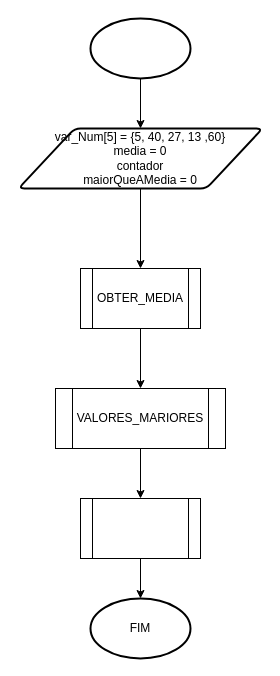
Image size: 280x676. Some labels were removed from this diagram. Each missing label, with the box of its shape:
FINALIZAR: (80, 498, 200, 558)
INICIO: (89, 17, 191, 79)
